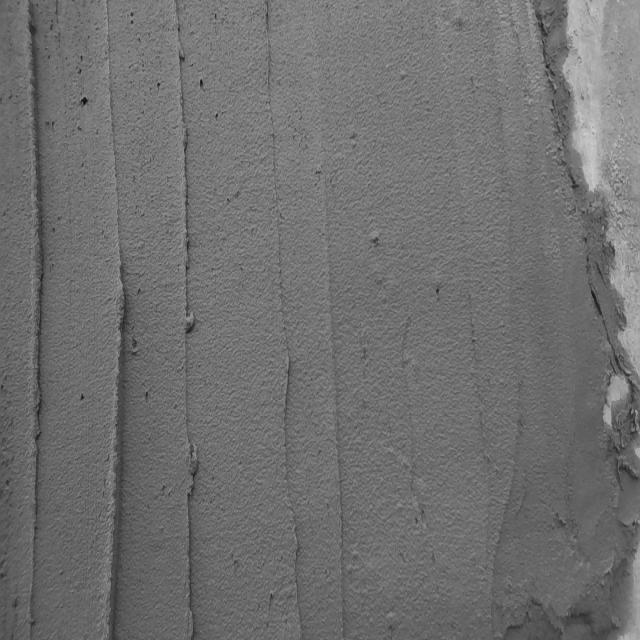trowels marks: (264, 0, 301, 631), (20, 0, 42, 640), (106, 44, 127, 640), (176, 18, 196, 633), (331, 332, 353, 640), (76, 92, 88, 112)
